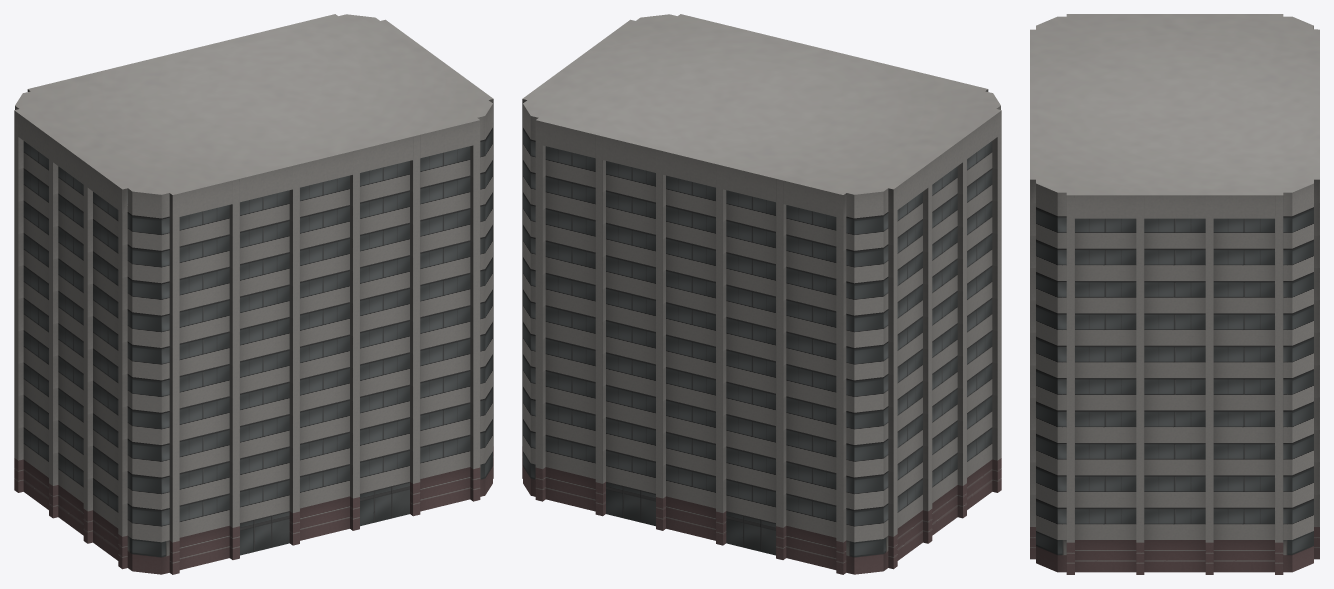
Rendered from BgMD_goto_Building_01_02.fbx.
3 renders of one model, left to right at view 1: azimuth 30°, elevation 25°; view 2: azimuth 150°, elevation 25°; view 3: azimuth 270°, elevation 25°, orthographic.
Parts seen in each view (by area): view 1: BgMD_goto_Building_01_02; view 2: BgMD_goto_Building_01_02; view 3: BgMD_goto_Building_01_02.
Boxes of the visible parts, box(x1,y1,x2,y2) form: BgMD_goto_Building_01_02: box(14, 14, 493, 574); BgMD_goto_Building_01_02: box(522, 14, 1001, 574); BgMD_goto_Building_01_02: box(1030, 14, 1319, 574).
Bounding box in the file's own units: 4200 × 4105 × 2840.
Materials: 1 (1 with a texture image).
